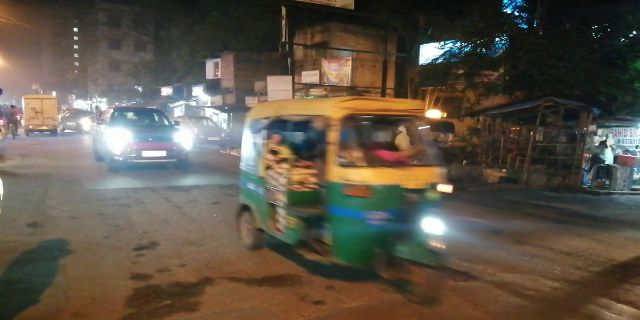Autorickshaw: (246, 97, 457, 302)
Car: (95, 99, 190, 171)
Minitruck: (23, 91, 63, 135)
